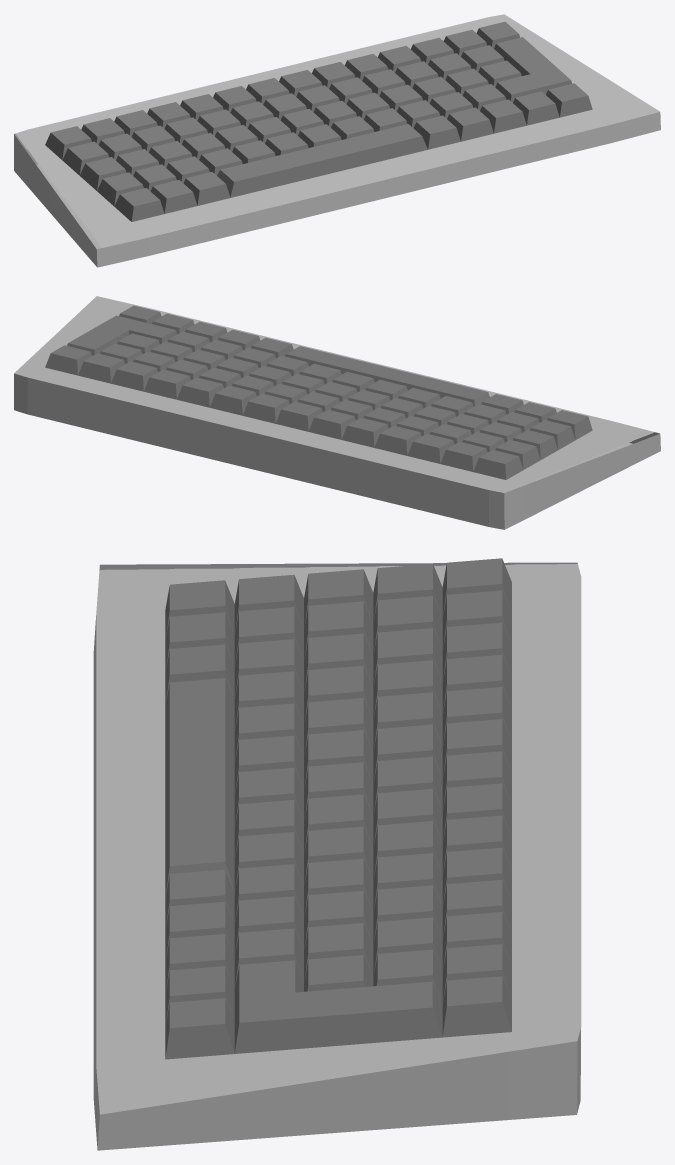
The model's file is Keyboard.fbx.
3 views of the same model, one above another, from view 1: azimuth 30°, elevation 25°; view 2: azimuth 150°, elevation 25°; view 3: azimuth 270°, elevation 25° (orthographic). The views are drawn at different scales.
Visible parts, largest first — view 1: Keyboard; view 2: Keyboard; view 3: Keyboard.
Boxes of the visible parts, x1=… form: Keyboard: x1=14, y1=14, x2=660, y2=267; Keyboard: x1=14, y1=296, x2=660, y2=529; Keyboard: x1=93, y1=558, x2=581, y2=1150.
Bounding box in the file's own units: 80.21 × 6.5 × 30.03.
